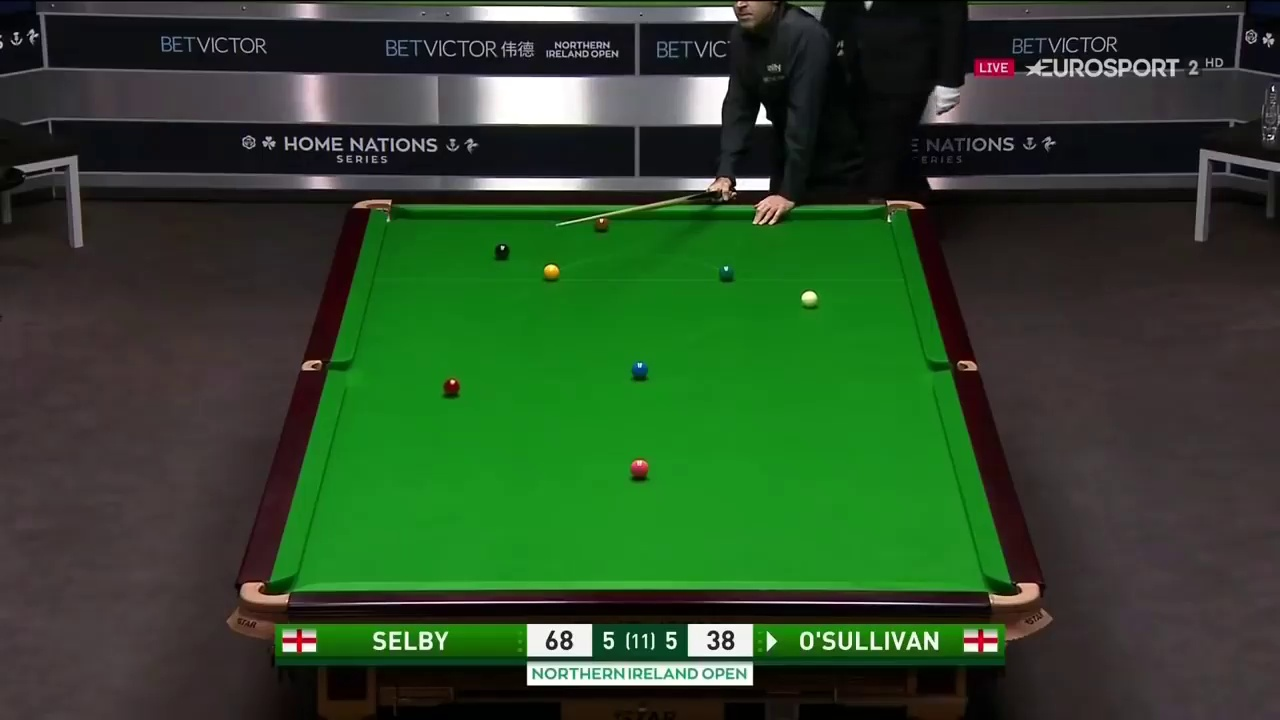ball: (627, 457, 654, 478), (801, 287, 821, 312), (491, 240, 512, 260), (629, 361, 650, 381), (541, 262, 561, 283), (718, 263, 735, 283), (444, 378, 460, 396)
